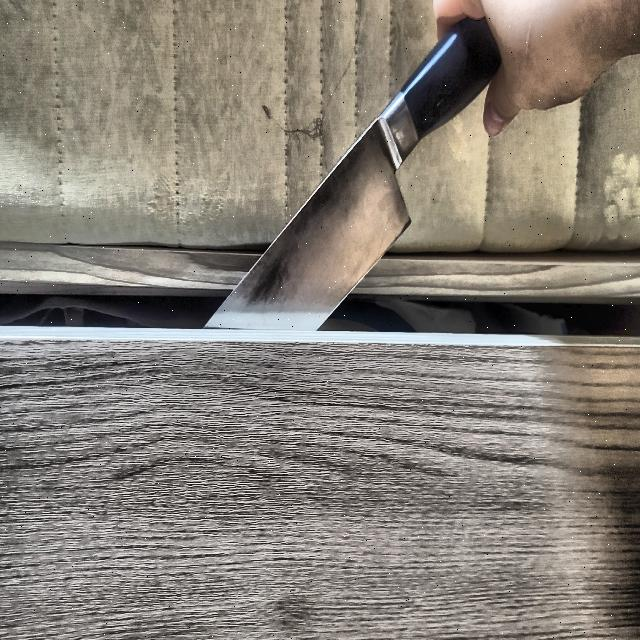knife: (202, 9, 503, 328)
